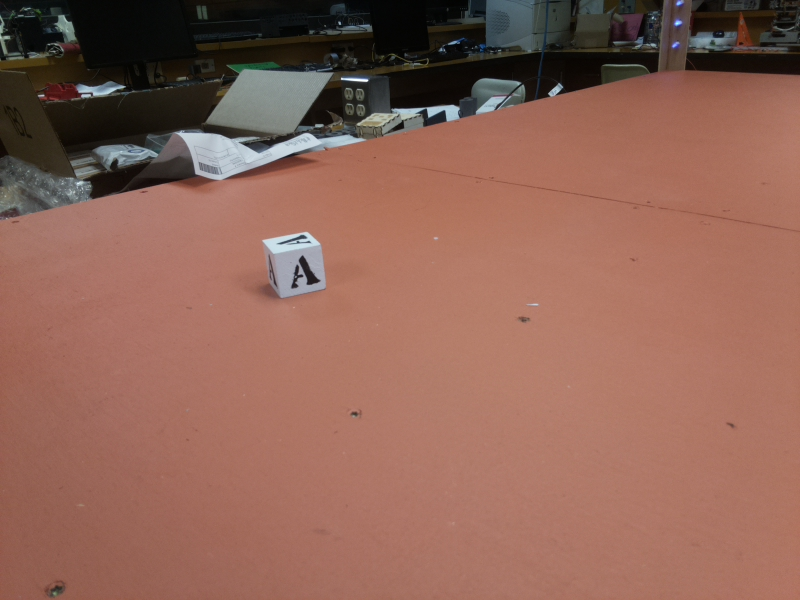blockA: (260, 230, 325, 300)
corner: (659, 6, 691, 74)
